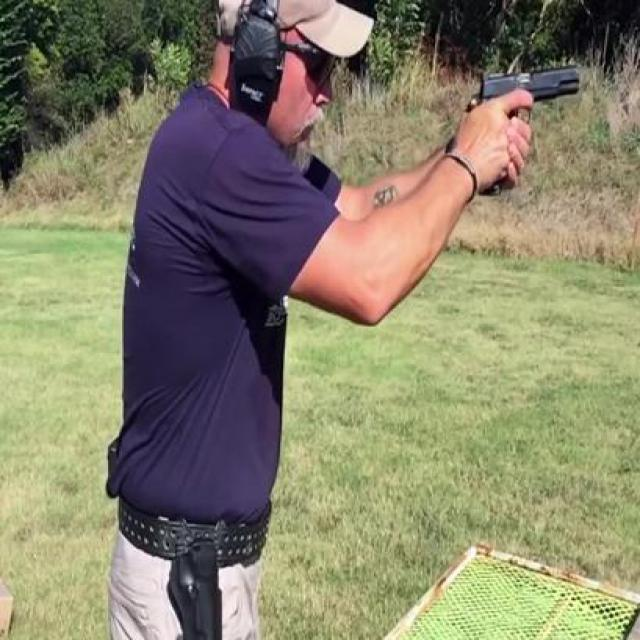gun: (466, 61, 580, 198)
